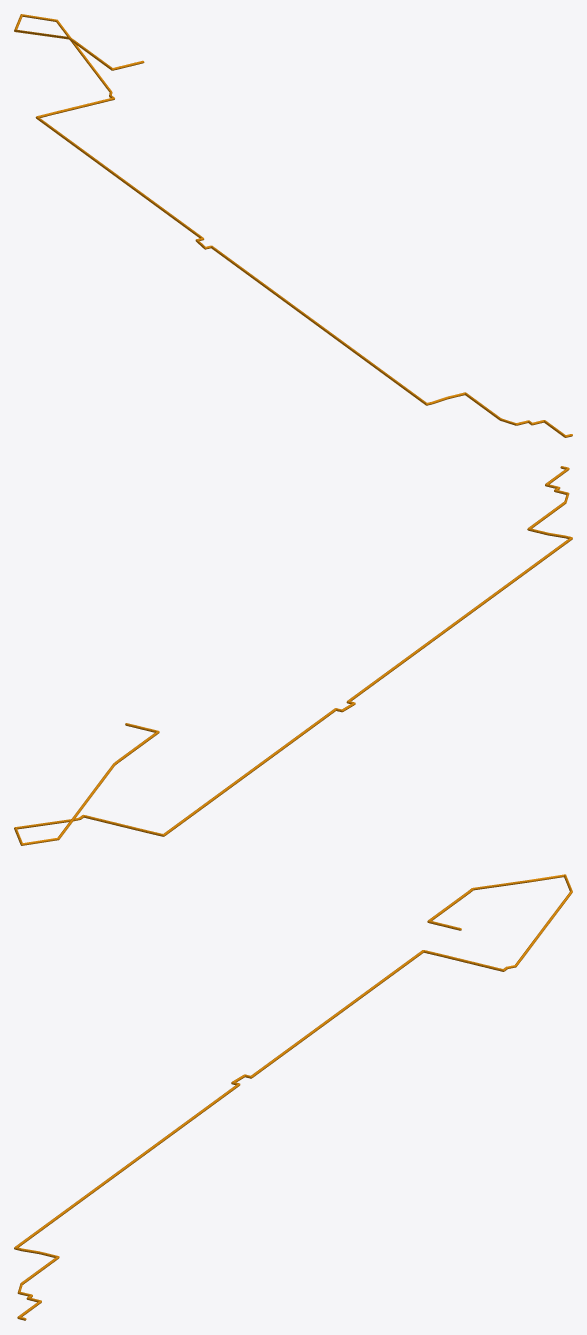
3 views of the same model, one above another, from view 1: azimuth 30°, elevation 25°; view 2: azimuth 150°, elevation 25°; view 3: azimuth 330°, elevation 25° (orthographic). The views are drawn at different scales.
Bounding box in the file's own units: 749 × 520 × 7598.
